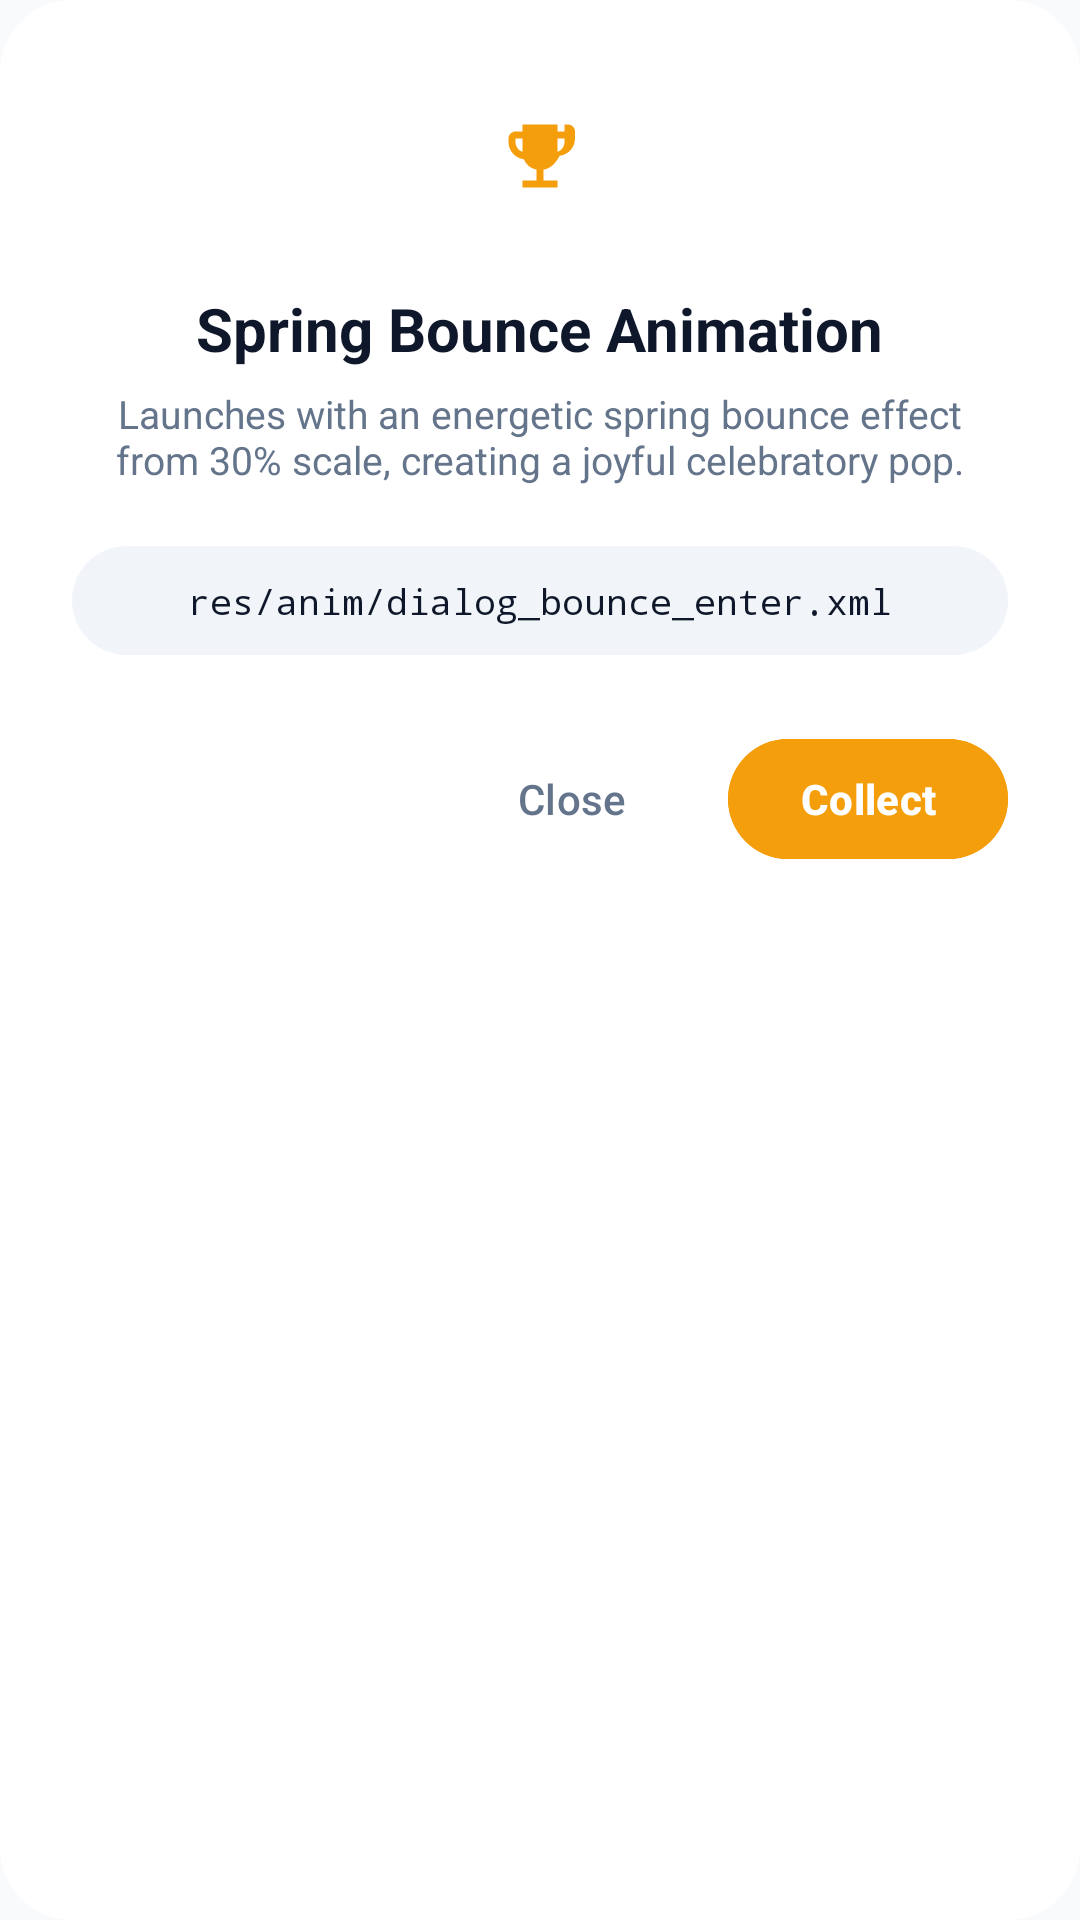

Screen size 1080 x 1920. Icon name, then its box in pixels as {"x1": x1, "y1": y1, "x2": x2, "y2": y2}:
trophy: {"x1": 508, "y1": 124, "x2": 575, "y2": 188}
